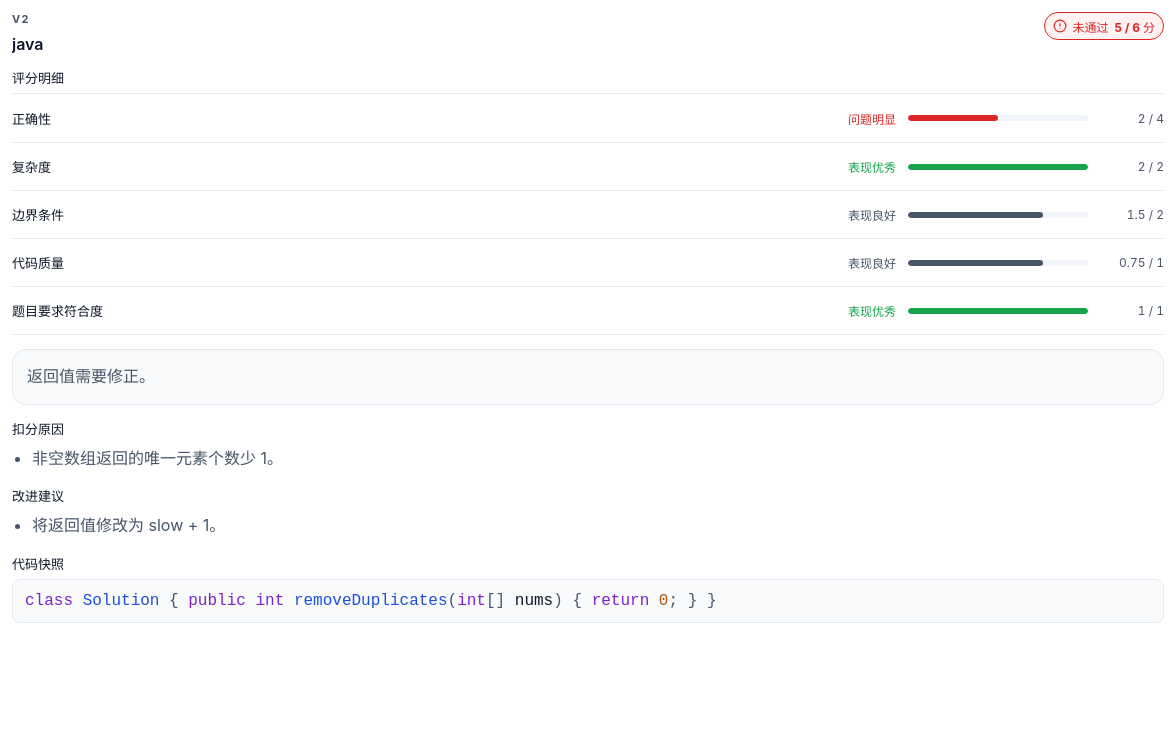
ReviewDetailPanel › shows score explanations from the progress bars and removes internal detail sections
Check: the heading "评分明细" is shown, box [12,70,64,86]
Check: the text "代码质量" is shown, box [12,253,64,272]
Hover over the button named "查看复杂度评分说明" at x=998, y=166, box [908,156,1088,178]
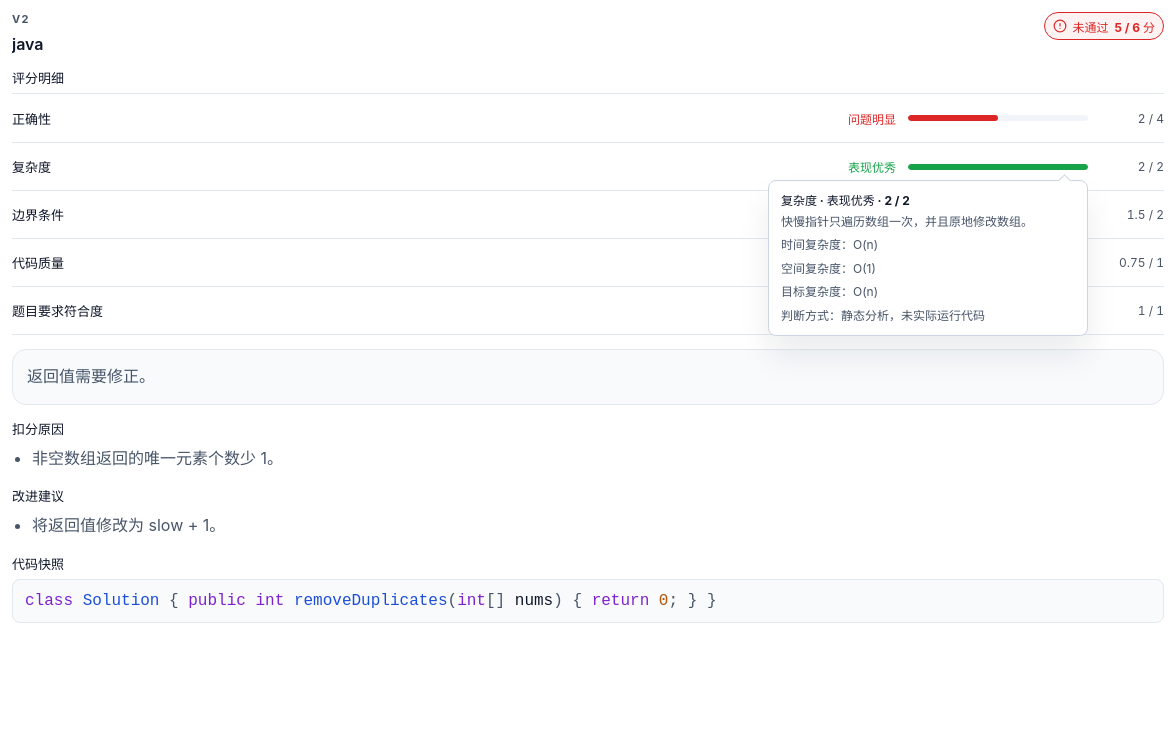
Check: the tooltip shows "复杂度 · 表现优秀 · 2 / 2", box [781,192,910,208]
Check: the tooltip shows "快慢指针只遍历数组一次，并且原地修改数组。", box [781,214,1033,228]
Check: the tooltip shows "时间复杂度：O(n)", box [781,237,878,252]
Move the pointer off the button named "查看复杂度评分说明", box [908,156,1088,178]
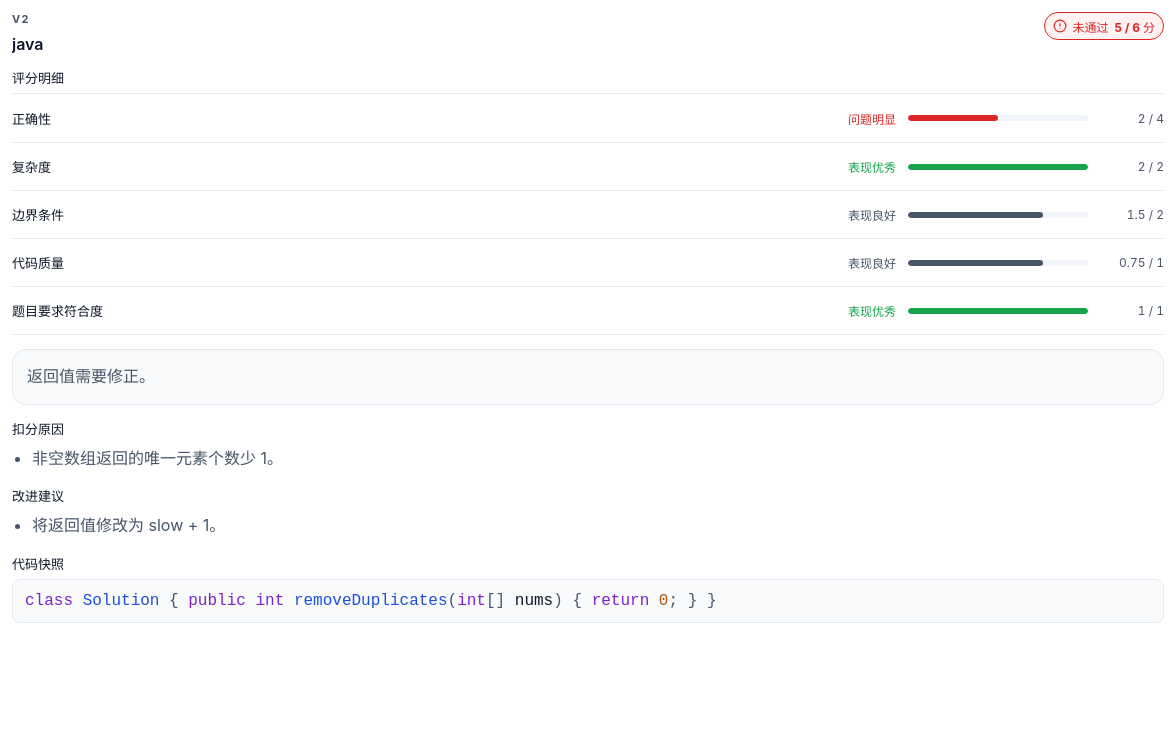
Check: the tooltip is gone
Focus the button named "查看题目要求符合度评分说明" at x=998, y=310, box [908,300,1088,322]
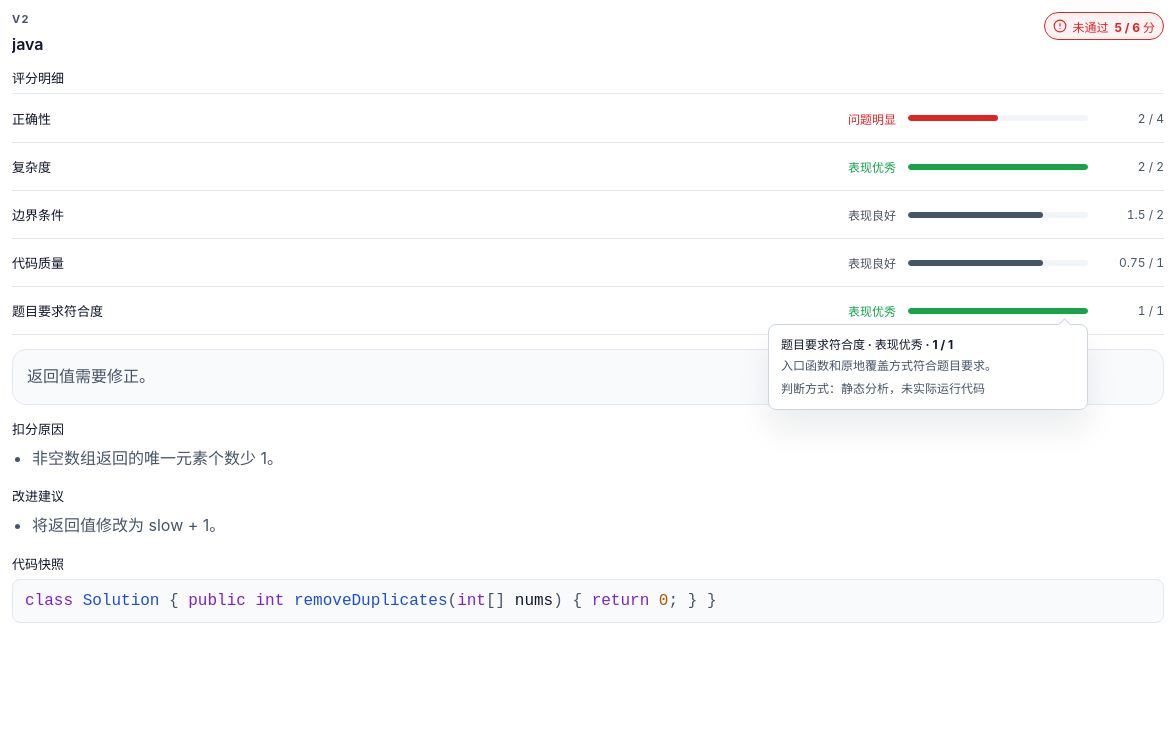
Check: the tooltip shows "入口函数和原地覆盖方式符合题目要求。", box [781,358,997,372]
Leave the button named "查看题目要求符合度评分说明", box [908,300,1088,322]
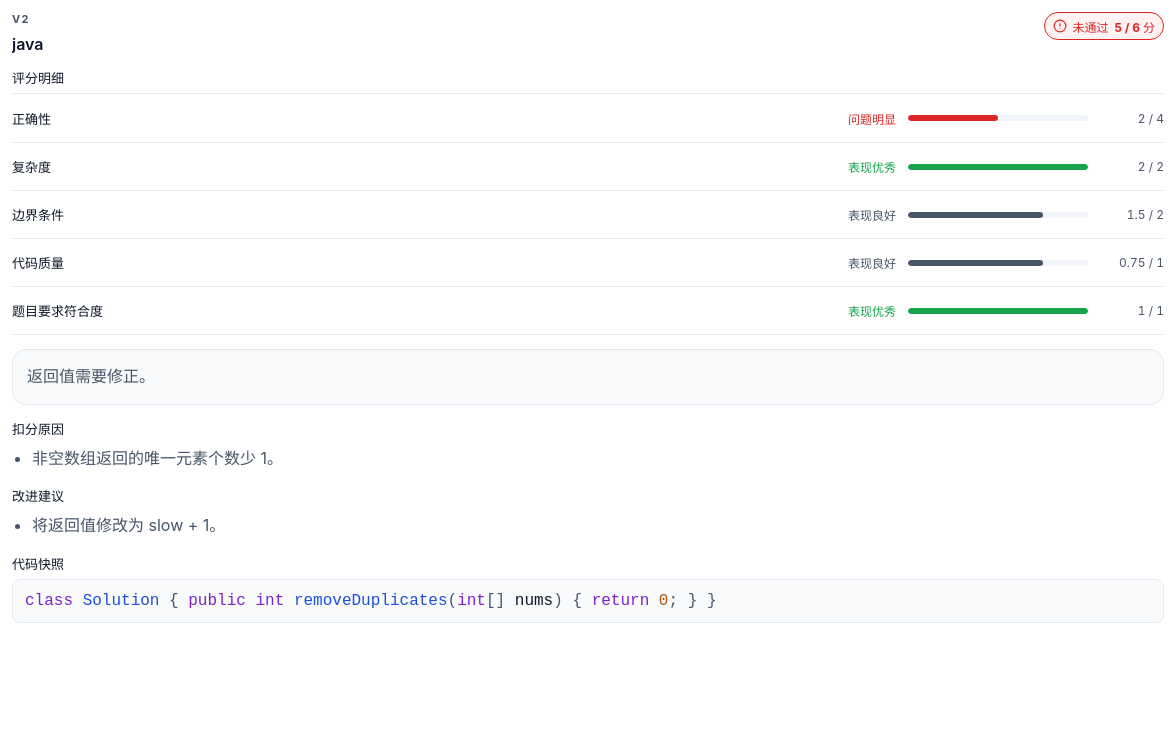
Check: the tooltip "题目要求符合度 · 表现优秀 · 1 / 1 入口函数和原地覆盖方式符合题目要求。 判断方式：静态分析，未实际运行代码" is gone
Click the button named "查看正确性评分说明" at x=998, y=118, box [908,107,1088,129]
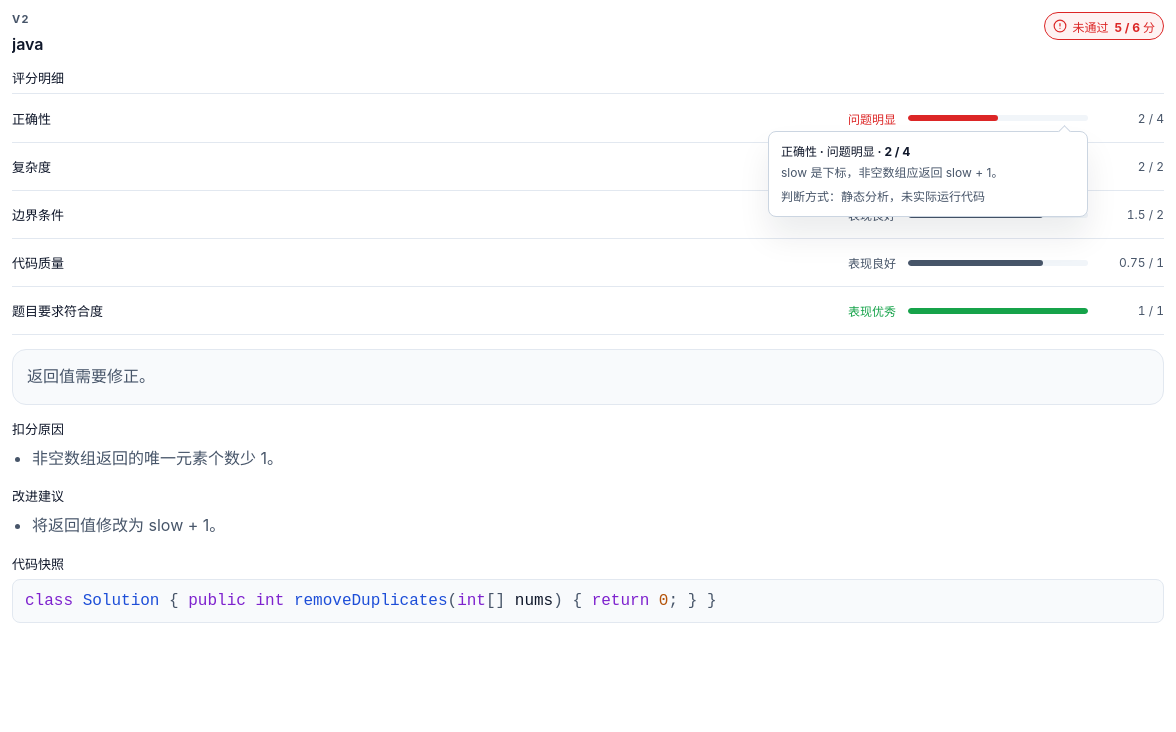
Check: the text with class "keyword" reads "class", box [25,592,73,610]
Check: the tooltip shows "slow 是下标，非空数组应返回 slow + 1。", box [781,165,1003,180]
